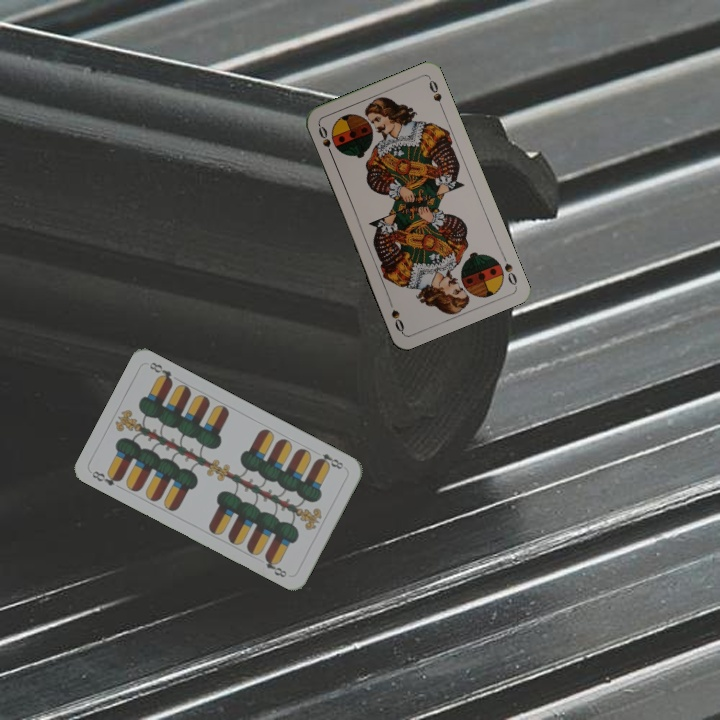E8: (312, 449, 348, 472), (88, 467, 124, 489)
SO: (497, 250, 520, 288), (314, 121, 336, 160)
